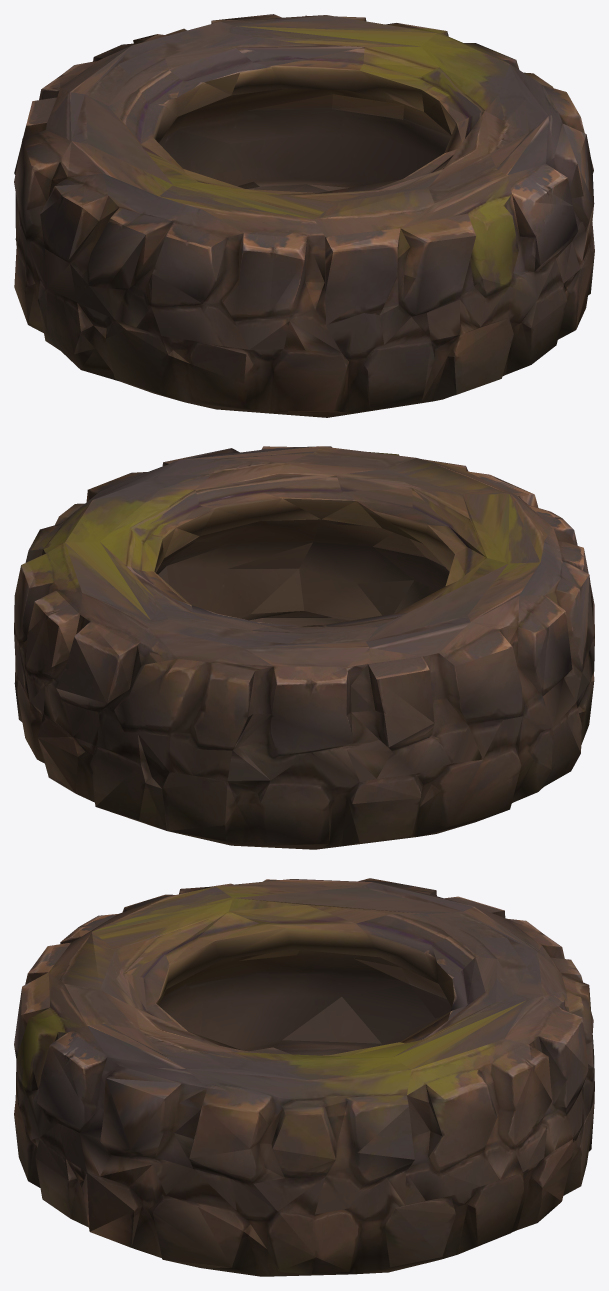
Rendered from CC_prop_Tire.fbx.
3 renders of one model, top to bottom at view 1: azimuth 30°, elevation 25°; view 2: azimuth 150°, elevation 25°; view 3: azimuth 270°, elevation 25°, orthographic.
Parts seen in each view (by area): view 1: CC_prop_Tire_LOD0; view 2: CC_prop_Tire_LOD0; view 3: CC_prop_Tire_LOD0.
Part boxes in pixels (x1,y1,x2,y2): CC_prop_Tire_LOD0: [14, 14, 594, 417]; CC_prop_Tire_LOD0: [14, 446, 594, 849]; CC_prop_Tire_LOD0: [14, 878, 594, 1276].
Size of what is drawn, in the model's own units: 1.2 by 0.4486 by 1.19.
